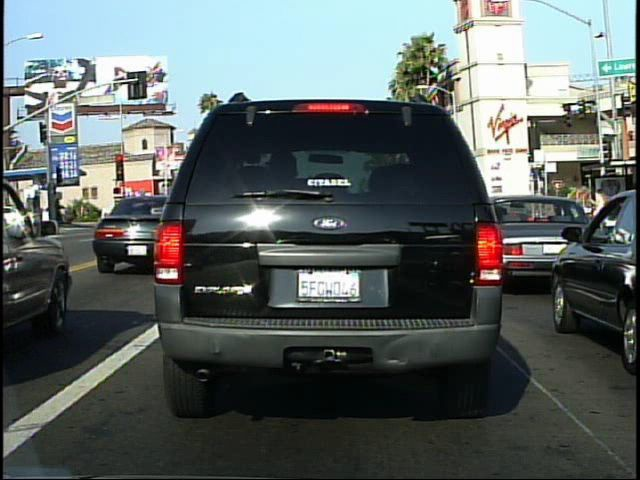person: (588, 184, 611, 240)
